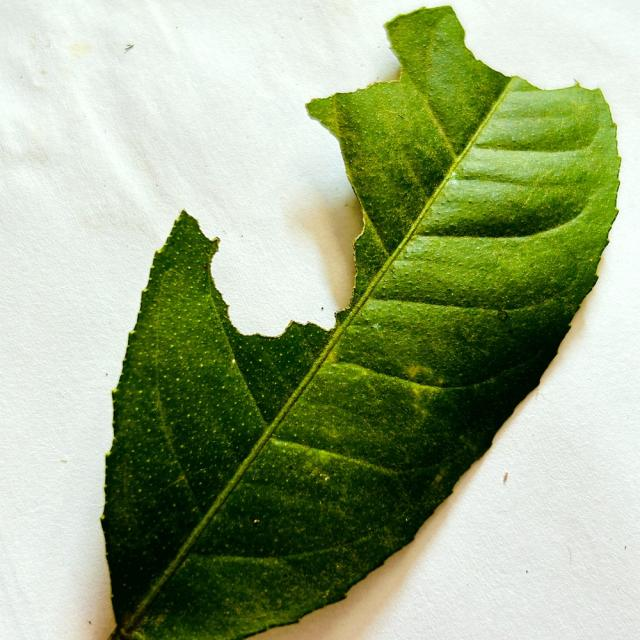Deficiency Leaf: (187, 106, 362, 335), (451, 0, 589, 89), (314, 27, 399, 96)
Lemon: (102, 7, 620, 639)
